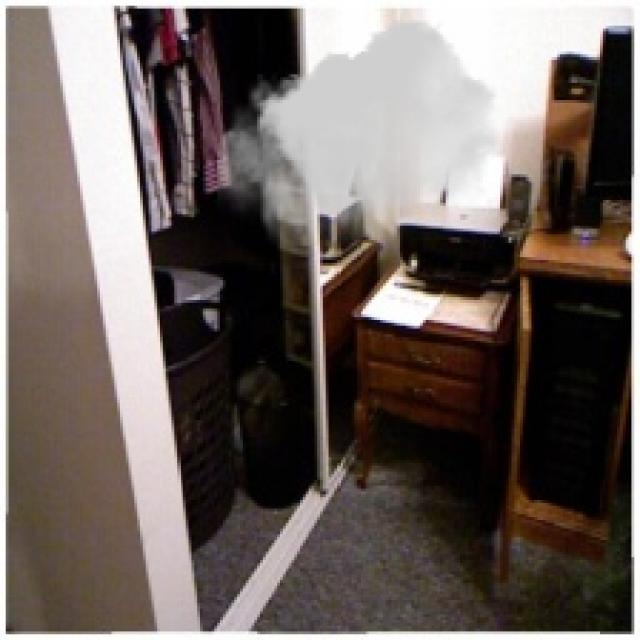smoke: (217, 20, 500, 246)
